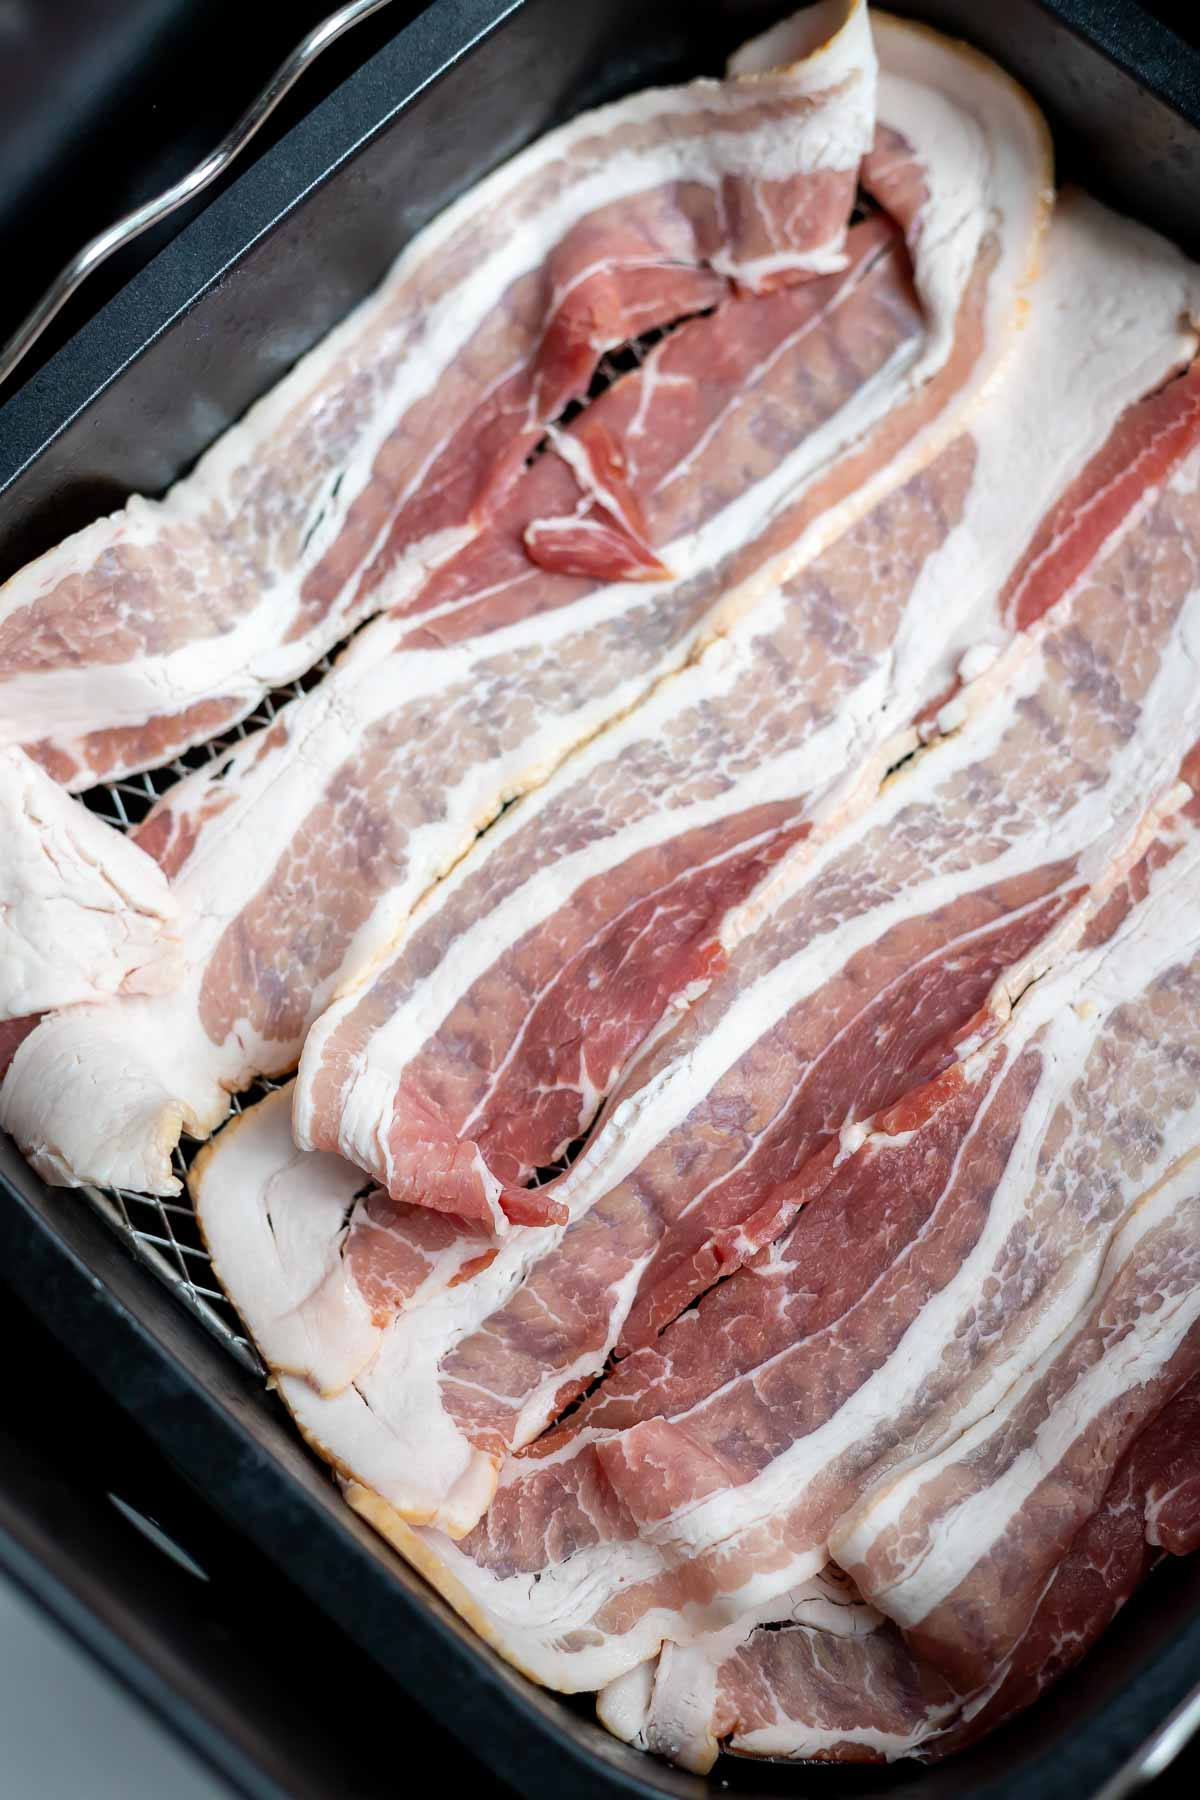bacon: (186, 287, 1175, 1462)
